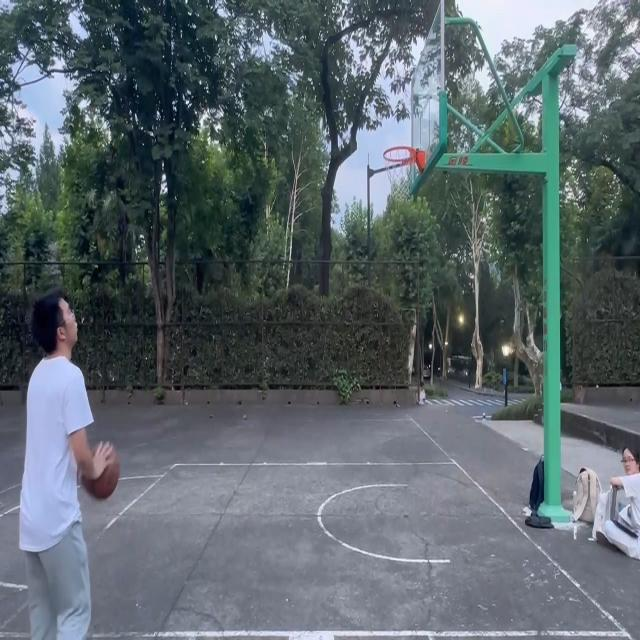basketball: (383, 147, 428, 201)
